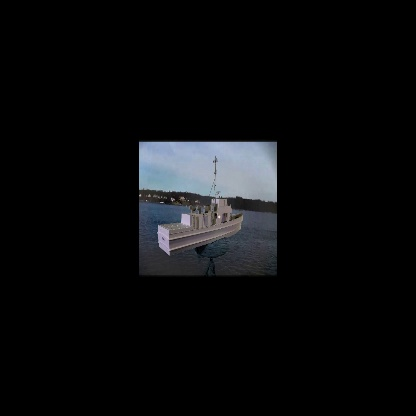YP689: (156, 151, 242, 258)
